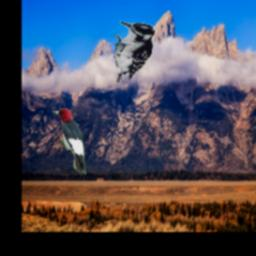Woodpecker: (112, 21, 155, 84), (51, 107, 86, 175)
